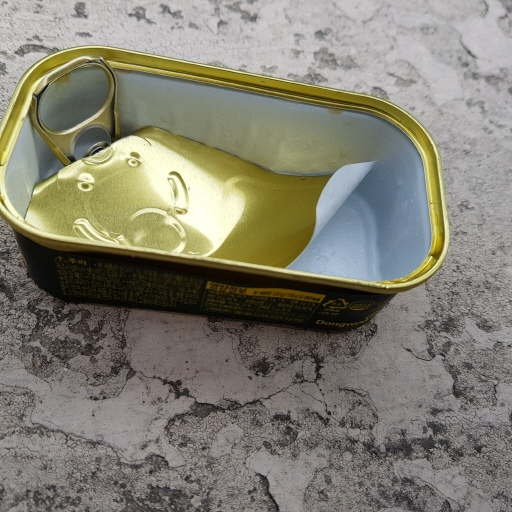Metal_2: (1, 44, 452, 338)
